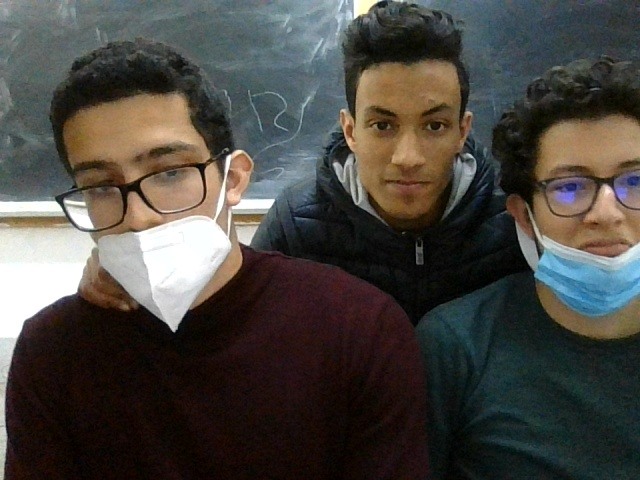mask_weared_incorrect: (51, 150, 242, 322), (541, 158, 640, 313)
without_mask: (357, 99, 459, 212)
